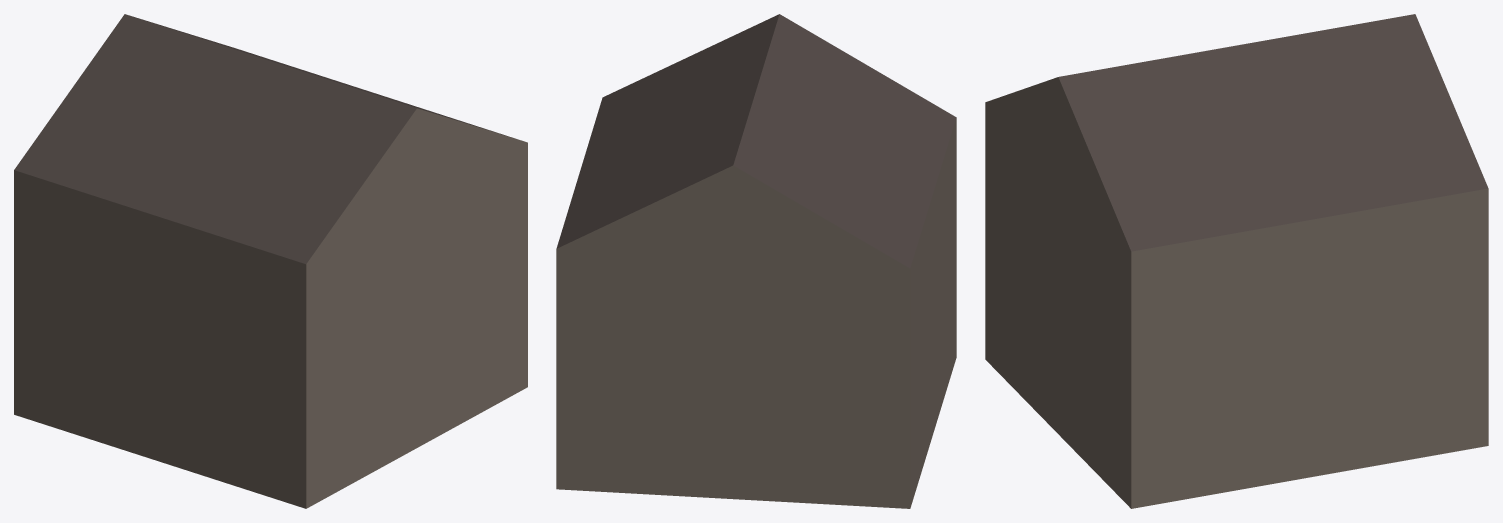
3 views of the same model, side by side, from view 1: azimuth 30°, elevation 25°; view 2: azimuth 150°, elevation 25°; view 3: azimuth 270°, elevation 25° (orthographic). The views are drawn at different scales.
Parts seen in each view (by area): view 1: HP-w783664813; view 2: HP-w783664813; view 3: HP-w783664813.
Part boxes in pixels (x1,y1,x2,y2): HP-w783664813: (14, 14, 527, 508); HP-w783664813: (556, 14, 956, 508); HP-w783664813: (985, 14, 1488, 508).
Size of the model in its own units: 10.61 by 8.33 by 10.63.
